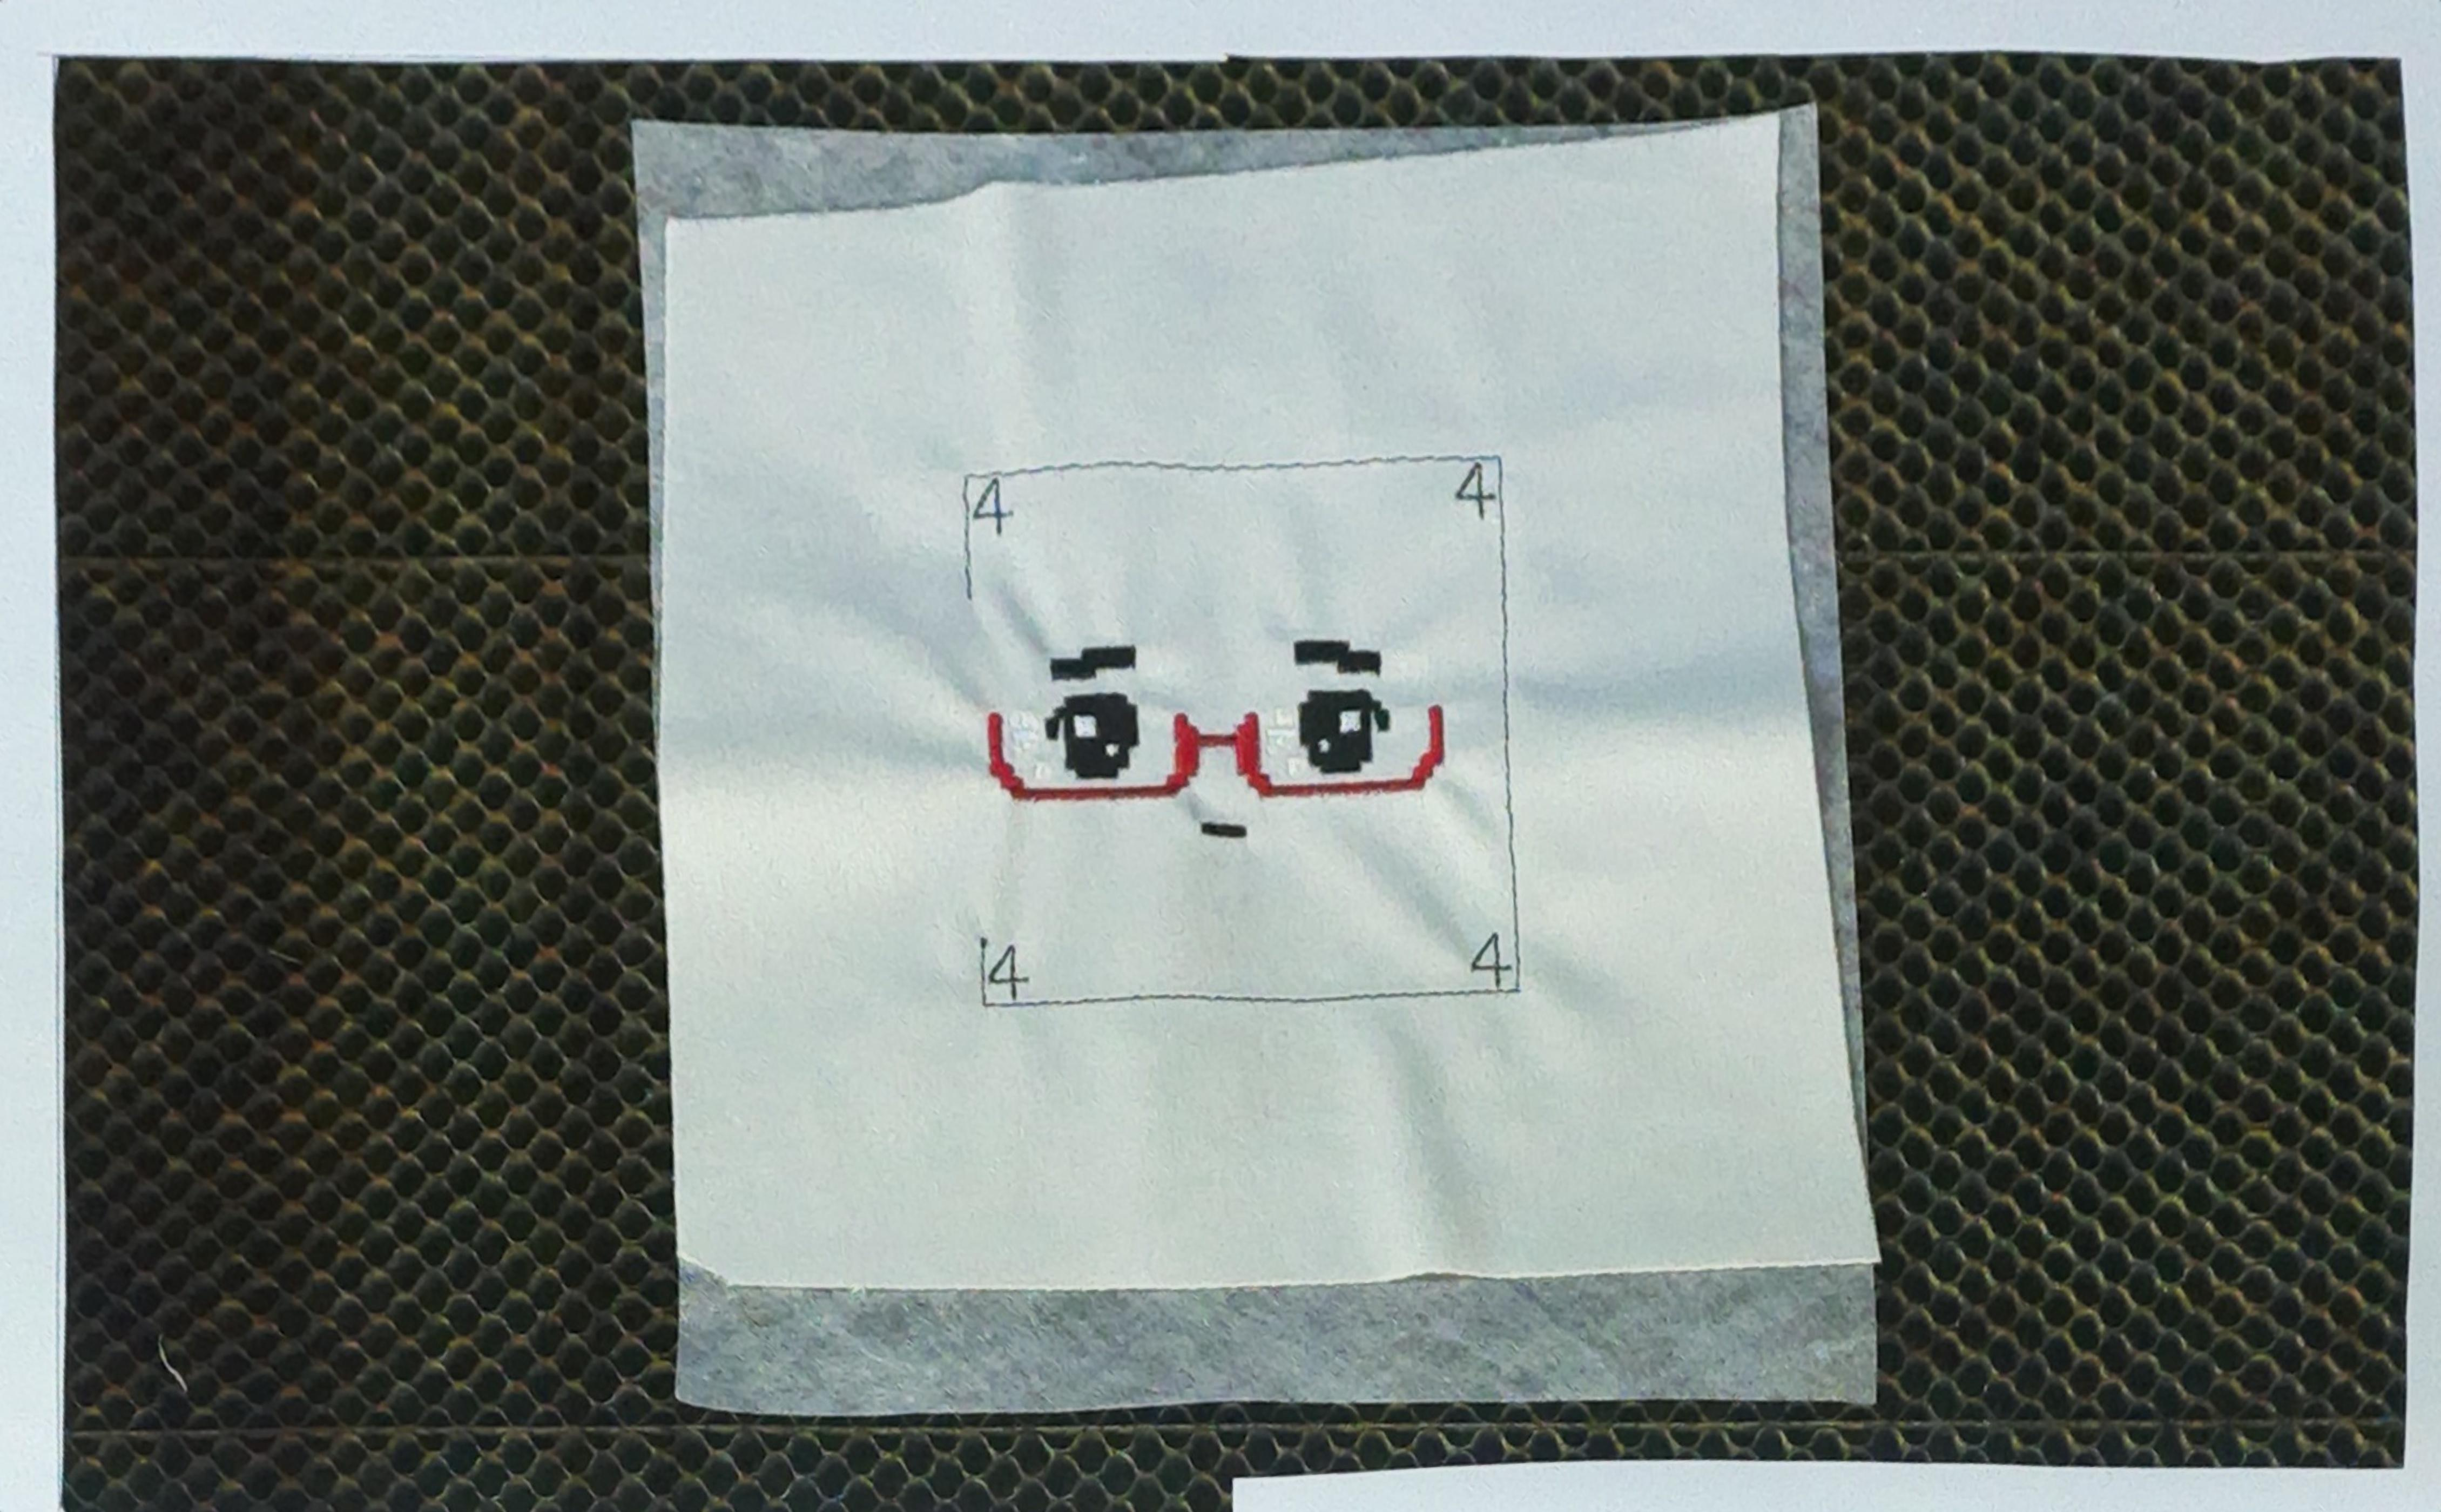4 -: (1468, 923, 1515, 989), (973, 478, 1020, 541), (985, 940, 1025, 999), (1461, 462, 1499, 523)
